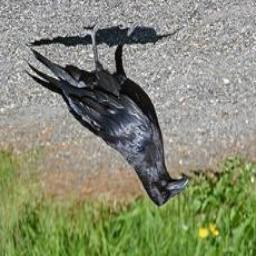Crow: (21, 18, 189, 208)
